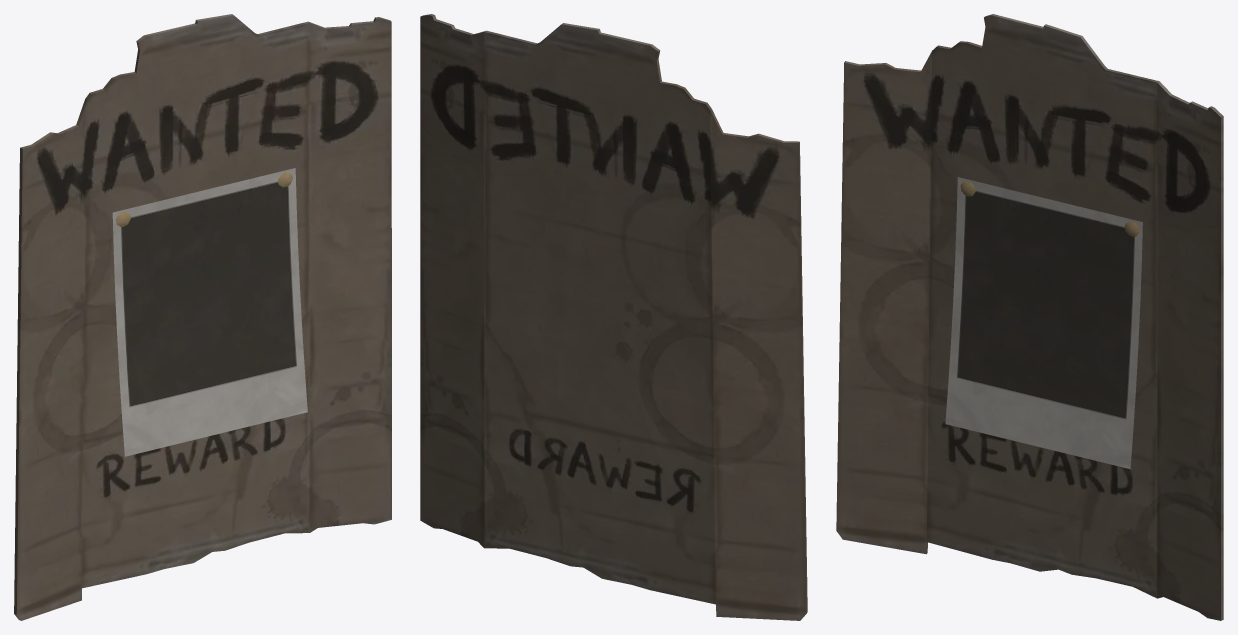
The model's file is wantedposter.deployed.glb.
3 renders of one model, left to right at view 1: azimuth 30°, elevation 25°; view 2: azimuth 150°, elevation 25°; view 3: azimuth 330°, elevation 25°, orthographic.
Parts seen in each view (by area): view 1: WantedPosterCardboard, WantedPosterPolaroid; view 2: WantedPosterCardboard; view 3: WantedPosterCardboard, WantedPosterPolaroid.
Part boxes in pixels (bbox=[...]): WantedPosterCardboard: bbox=[14, 14, 391, 620]; WantedPosterPolaroid: bbox=[112, 168, 307, 456]; WantedPosterCardboard: bbox=[420, 14, 807, 620]; WantedPosterCardboard: bbox=[836, 14, 1223, 620]; WantedPosterPolaroid: bbox=[945, 177, 1142, 469].
Bounding box in the file's own units: 0.3437 × 0.477 × 0.0222.
Materials: 2 (2 with a texture image).
